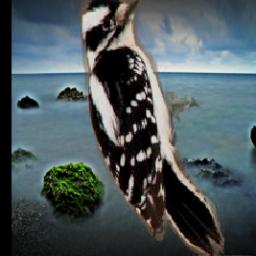Woodpecker: (79, 0, 224, 256)
